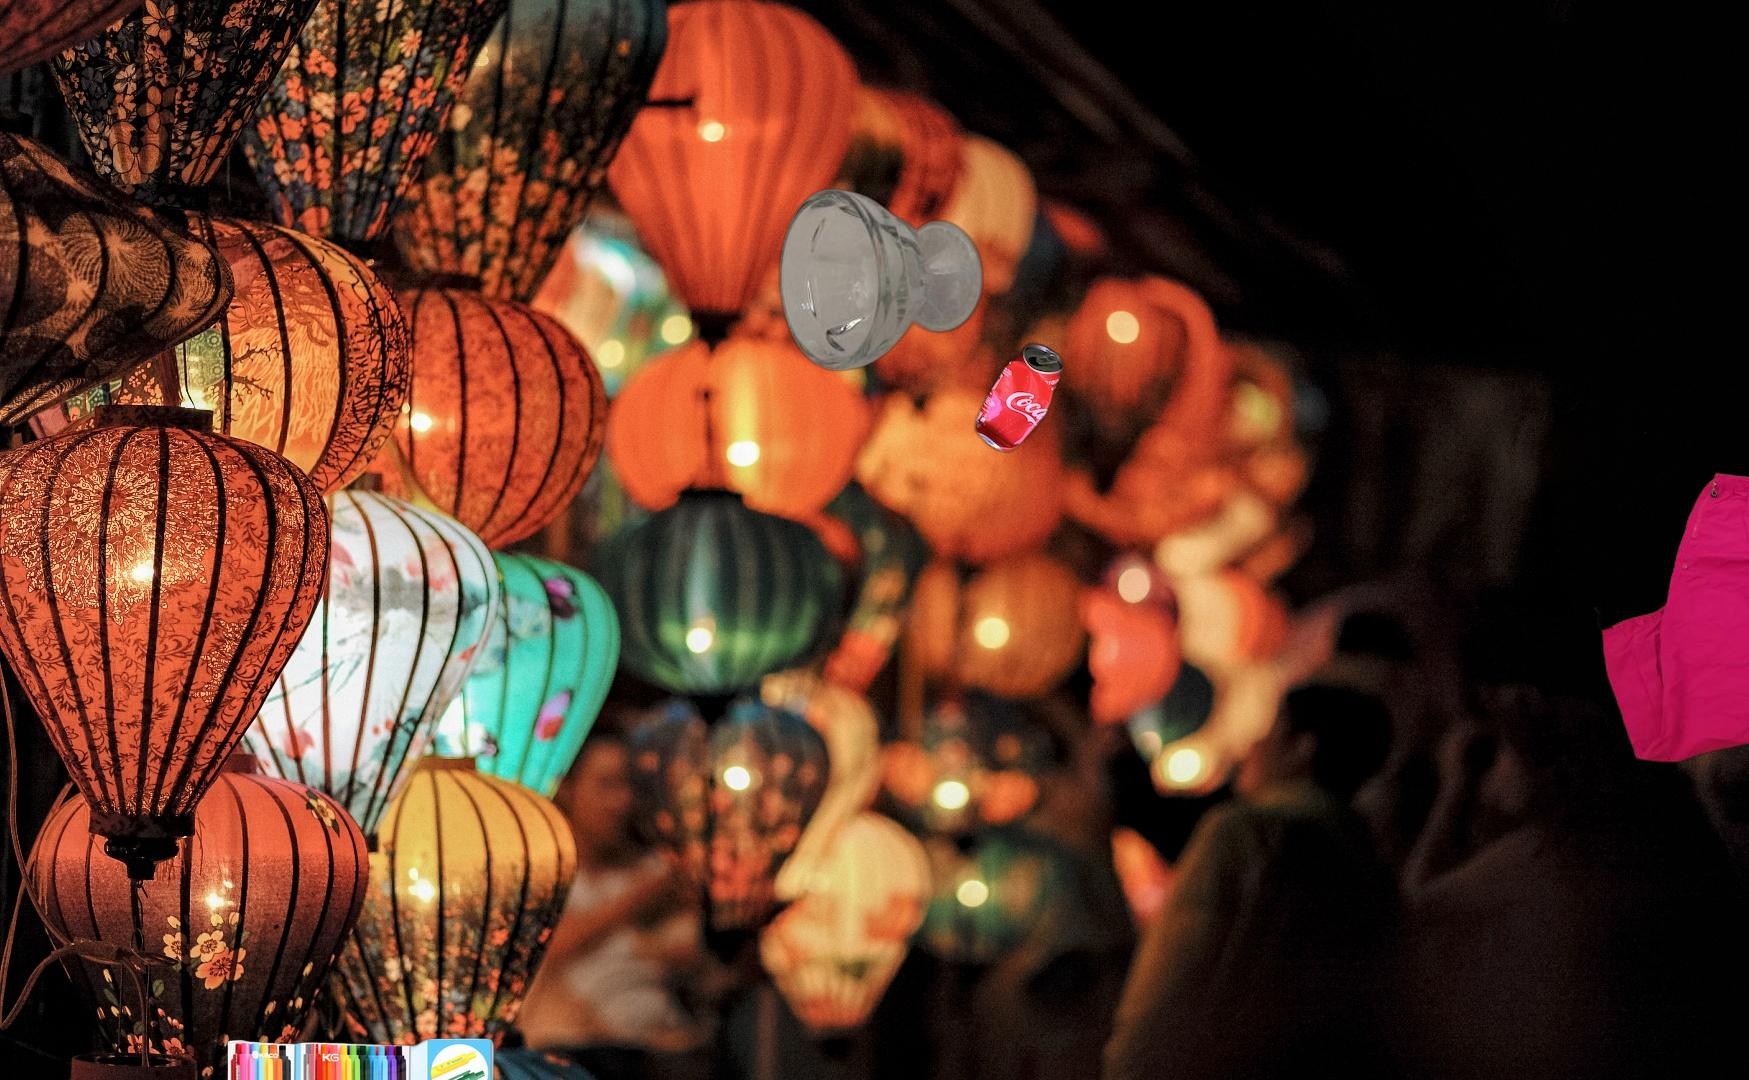clothes: (1592, 457, 1749, 766)
glass: (775, 187, 987, 372)
metal-cans: (971, 337, 1069, 457)
penholder: (224, 1036, 507, 1080)
